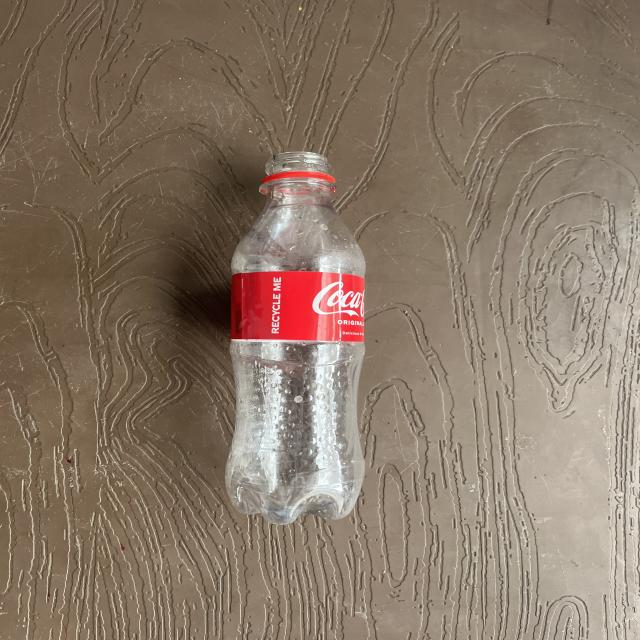REJECT: (208, 137, 405, 530)
